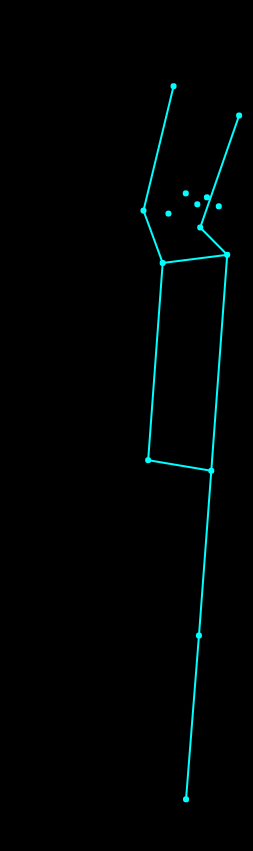tree: (82, 61, 253, 814)
